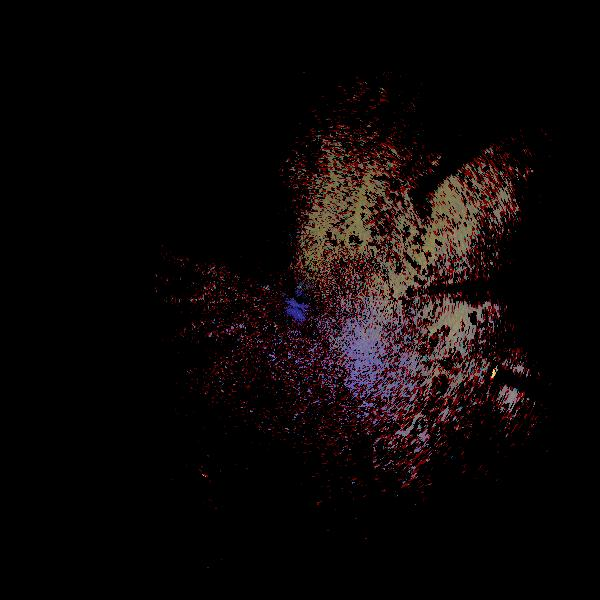roost: (316, 501, 322, 507)
